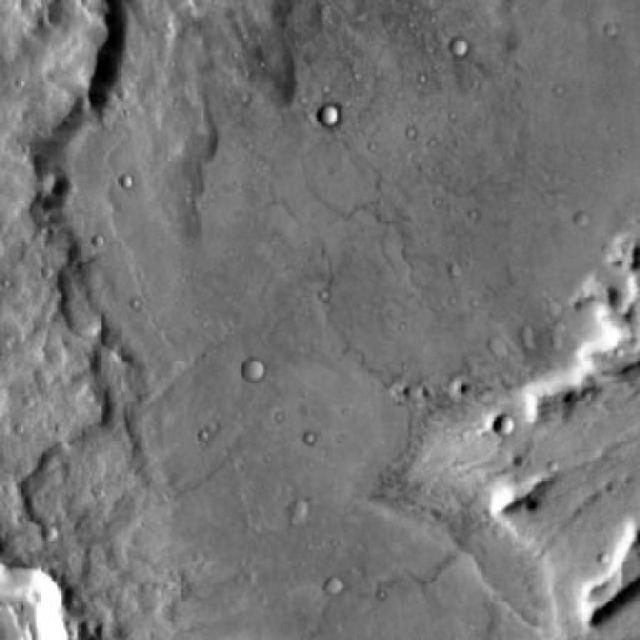crater: (81, 0, 640, 429), (243, 356, 266, 379), (316, 105, 339, 128), (291, 502, 311, 521), (493, 416, 512, 435), (324, 577, 342, 595), (449, 37, 466, 54), (572, 210, 588, 225)
